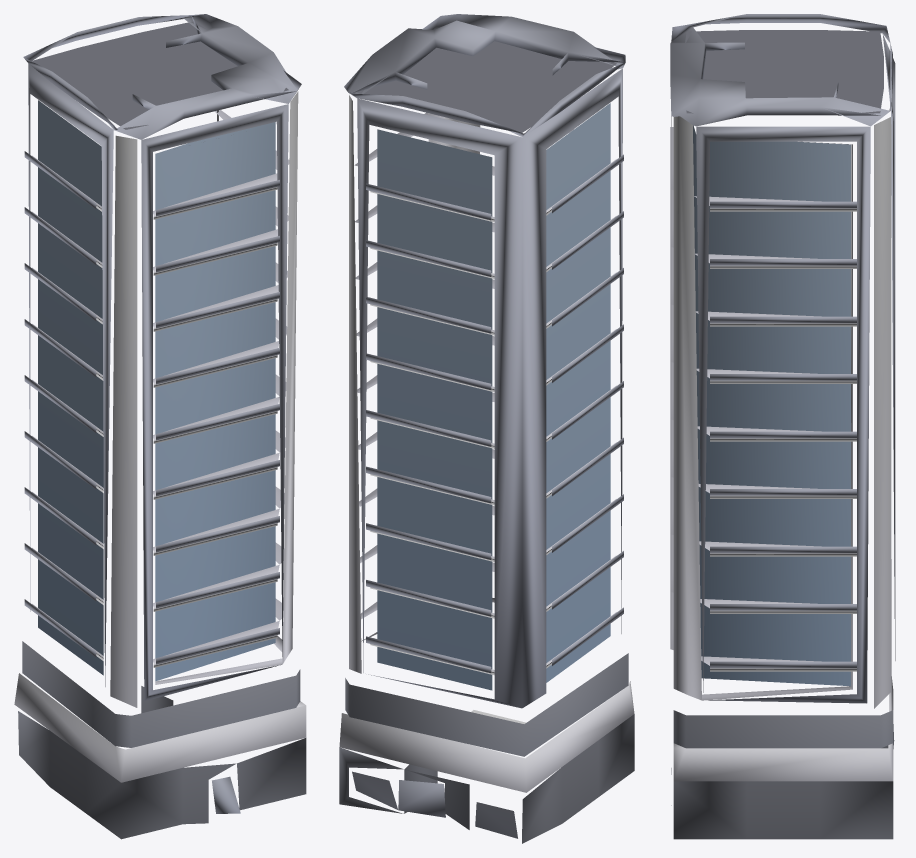
3 renders of one model, left to right at view 1: azimuth 30°, elevation 25°; view 2: azimuth 150°, elevation 25°; view 3: azimuth 270°, elevation 25°, orthographic. The views are drawn at different scales.
Size of the model in its own units: 10.37 by 35.84 by 10.37.
